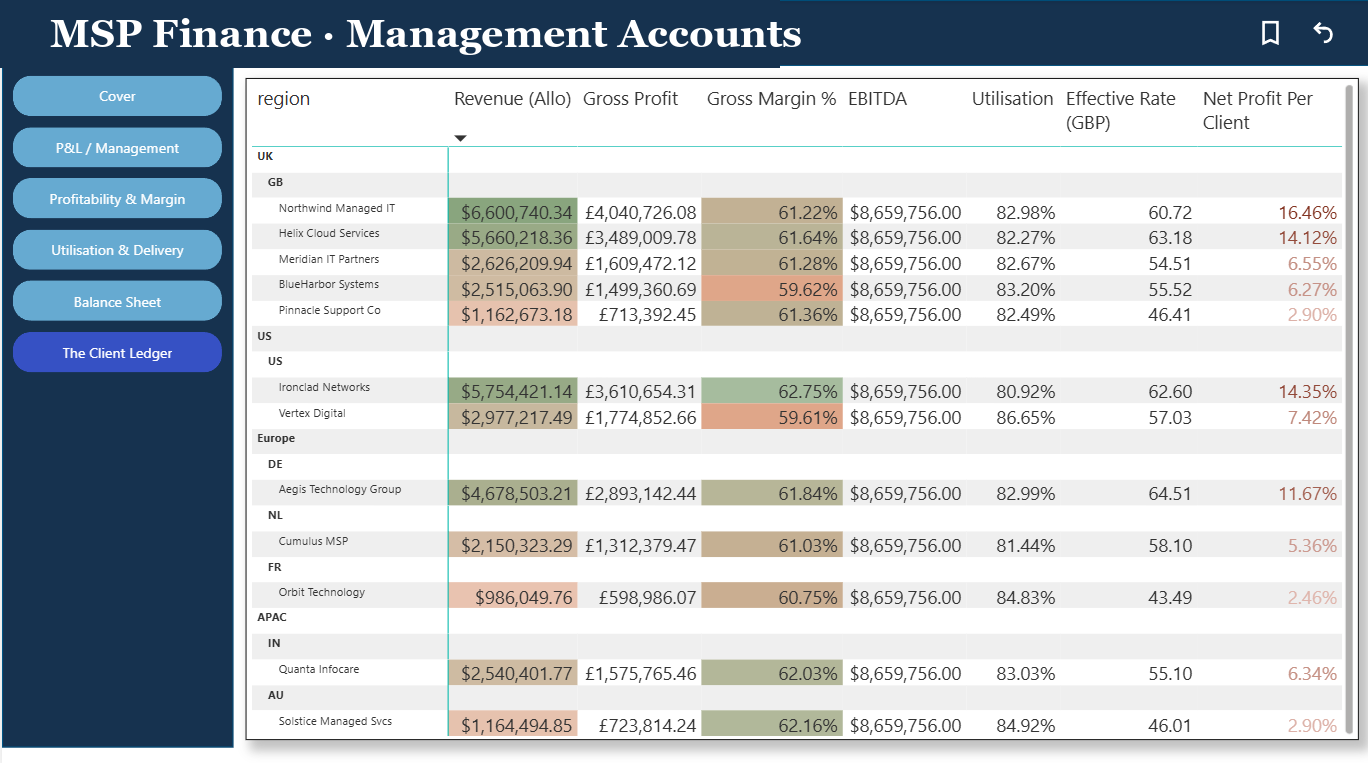

Layout of this report page (visuals, bound fields, positions):
{"tool":"powerbi","page":{"name":"The Client Ledger","canvas":[1280,720],"ordinal":5},"visuals":[{"type":"shape","box":[0,0,216.9,700.1],"z":0,"group":"g1"},{"type":"pivotTable","fields":{"Rows":["dim_Client.region Hierarchy.region","dim_Client.region Hierarchy.country","dim_Client.region Hierarchy.client_name"],"Values":["_Measures.Revenue (Allo)","_Measures.Gross Profit","_Measures.Gross Margin %","_Measures.EBITDA","_Measures.Utilisation","_Measures.Effective Rate (GBP)","_Measures.Net Profit Per Client"]},"box":[227.9,73.3,1042.3,619.7],"z":0},{"type":"shape","box":[0,0,1280.6,61.9],"z":1000,"group":"g1"},{"type":"textbox","title":"RVS iGlobal · Management Accounts","box":[0,0,718.6,61.3],"z":3000,"group":"g1"},{"type":"group","id":"g1","title":"Group 2","box":[0,0,1280.6,700.1],"z":4000},{"type":"actionButton","title":"Margin Story","box":[1171.8,5.7,31.5,50.8],"z":4500},{"type":"actionButton","box":[1222.2,12.6,29,35.6],"z":5000},{"type":"pageNavigator","box":[10.1,70.8,196.7,280.9],"z":16000,"group":"g1"}]}

Visuals, with their boxes on the page's 1280x720 design canvas (x1, y1, x2, y2). These are canvas units, not pixel positions in the 1368x763 screenshot, which may show the page scaled, cropped or inside an application window:
shape: bbox(0, 0, 217, 700)
pivotTable - dim_Client.region Hierarchy.region x dim_Client.region Hierarchy.country: bbox(228, 73, 1270, 693)
shape: bbox(0, 0, 1281, 62)
"RVS iGlobal · Management Accounts" textbox: bbox(0, 0, 719, 61)
"Group 2" group: bbox(0, 0, 1281, 700)
"Margin Story" actionButton: bbox(1172, 6, 1203, 56)
actionButton: bbox(1222, 13, 1251, 48)
pageNavigator: bbox(10, 71, 207, 352)
